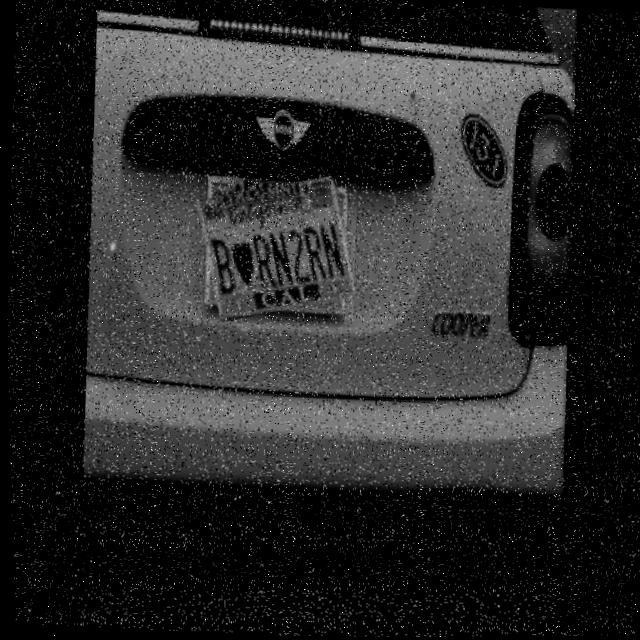LicensePlate: (195, 175, 359, 322)
